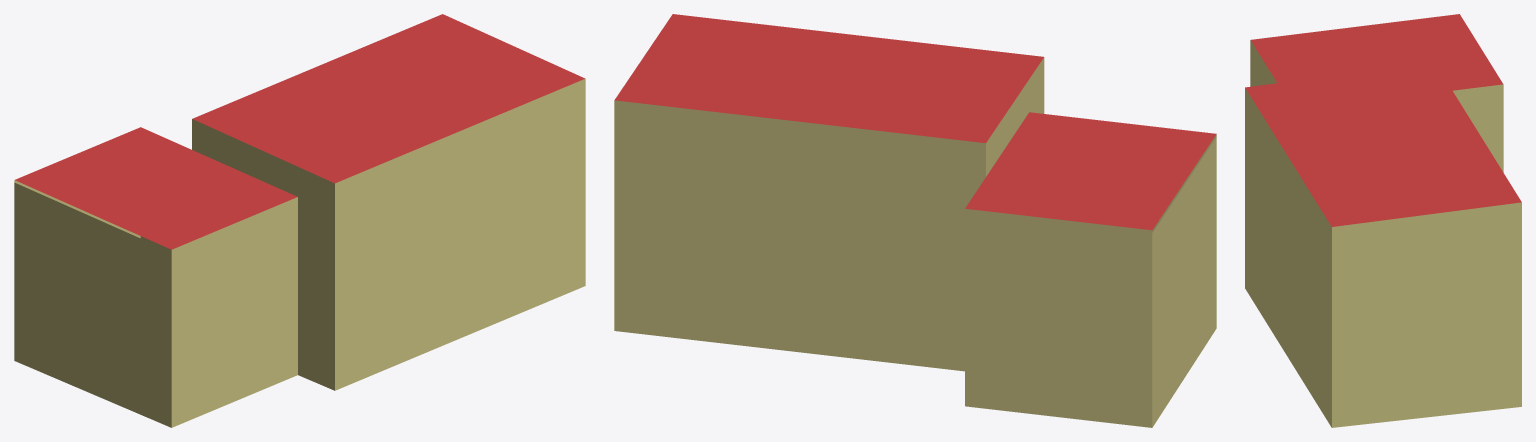
3 views of the same model, side by side, from view 1: azimuth 30°, elevation 25°; view 2: azimuth 150°, elevation 25°; view 3: azimuth 270°, elevation 25° (orthographic). The views are drawn at different scales.
Bounding box in the file's own units: 21.33 × 10.46 × 8.52.
